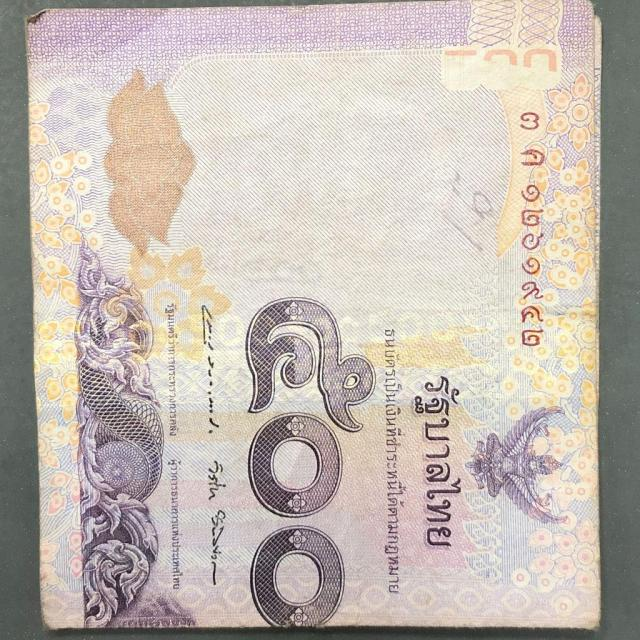THAI500: (27, 0, 601, 629)
